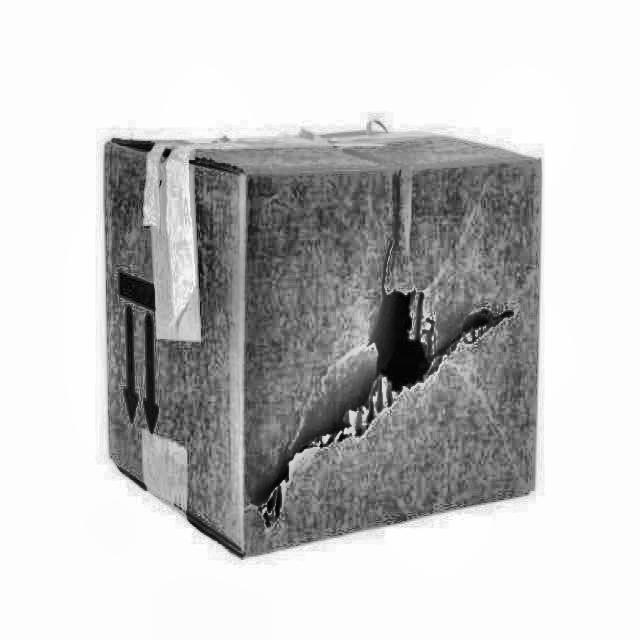box: (68, 82, 566, 592)
hole: (251, 288, 517, 526)
